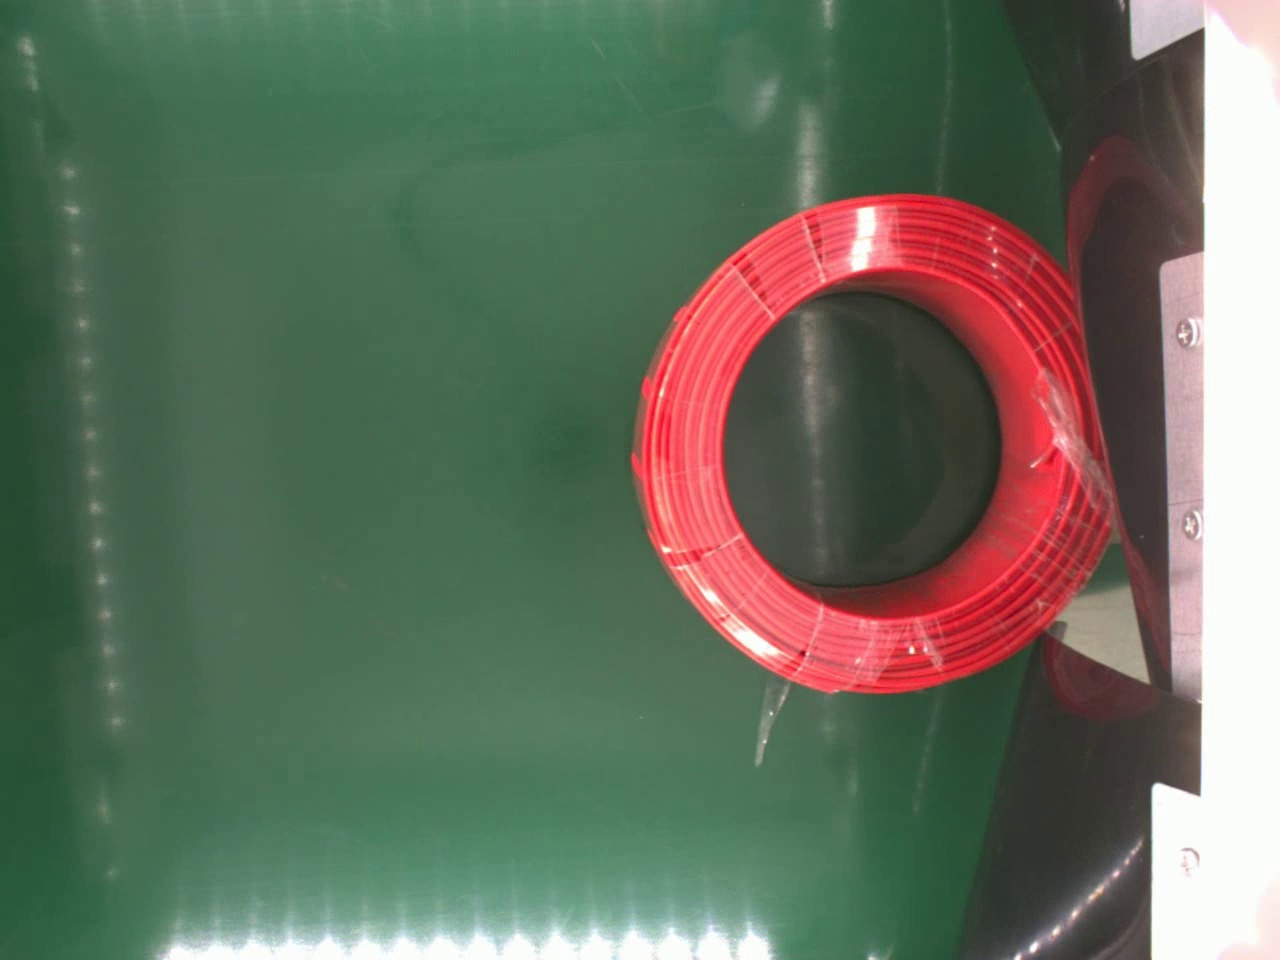red: (625, 187, 1114, 696)
